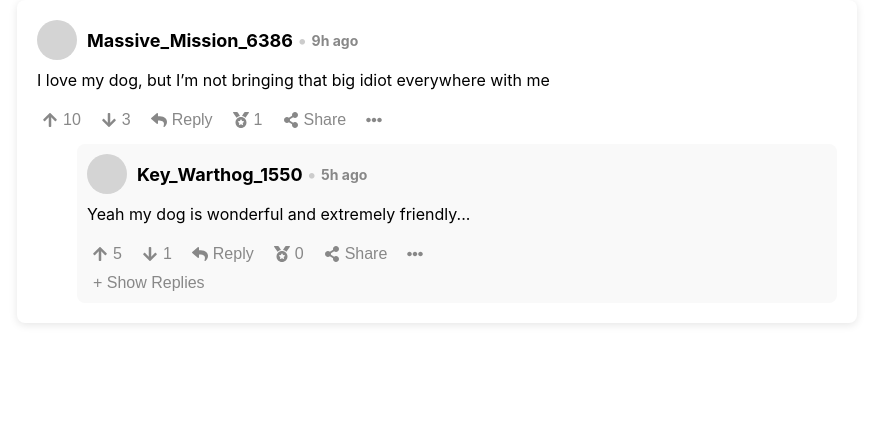
Post Component › toggles reply visibility when Show Replies is clicked
The image size is (875, 429).
What coordinates should you click on to do the following:
click the button "+ Show Replies"
I would click on:
 (149, 283)
Its box is [87, 273, 211, 293].
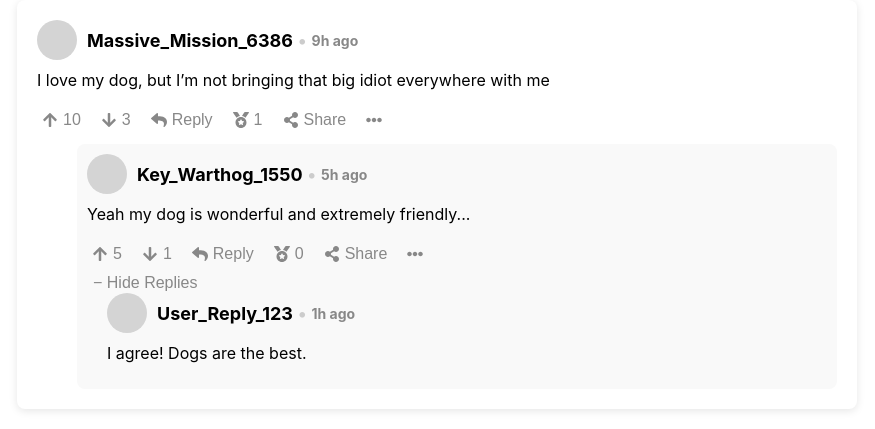
Result: the button "− Hide Replies" is shown
Note: Click again to hide replies
What coordinates should you click on to do the following:
click the button "− Hide Replies"
I would click on:
 (145, 283)
Its box is [87, 273, 204, 293].
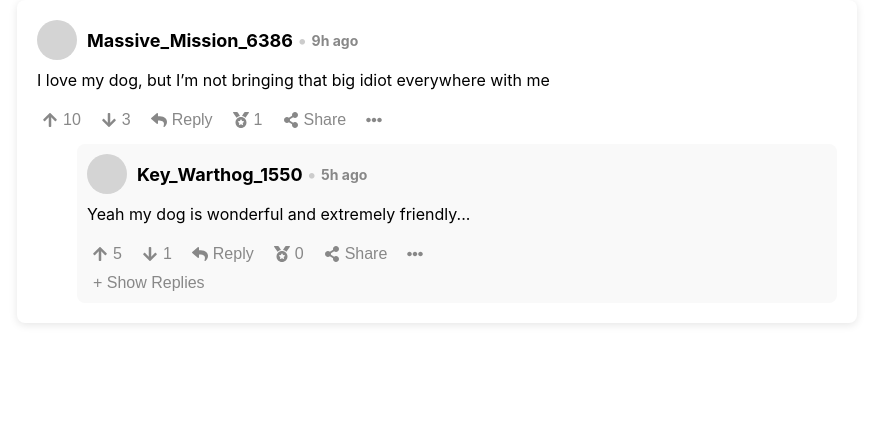
Result: the button "+ Show Replies" is shown at [87, 273, 211, 293]
